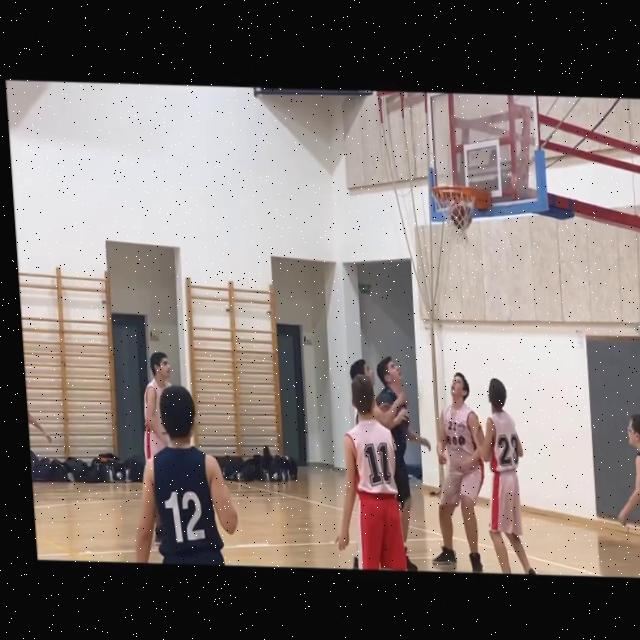basketball: (450, 202, 474, 231)
hoop: (429, 184, 480, 251), (429, 184, 479, 250)
